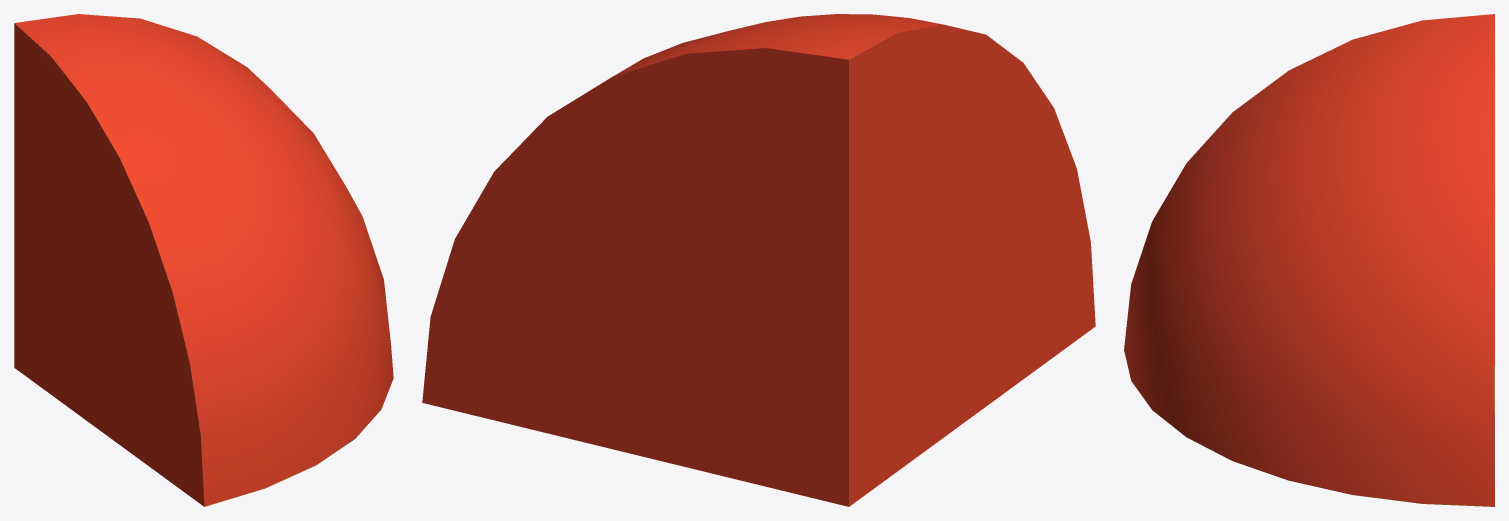
The model's file is r4c1_body_red.gltf.
3 renders of one model, left to right at view 1: azimuth 30°, elevation 25°; view 2: azimuth 150°, elevation 25°; view 3: azimuth 270°, elevation 25°, orthographic. The views are drawn at different scales.
Visible parts, largest first — view 1: r4c1_body_red; view 2: r4c1_body_red; view 3: r4c1_body_red.
Boxes of the visible parts, x1,y1,x2,y2 form: r4c1_body_red: (14,14,393,506); r4c1_body_red: (422,14,1095,506); r4c1_body_red: (1124,14,1494,506).
Size of what is drawn, in the model's own units: 2 by 2 by 2.
Materials: 1 (1 with a texture image).
